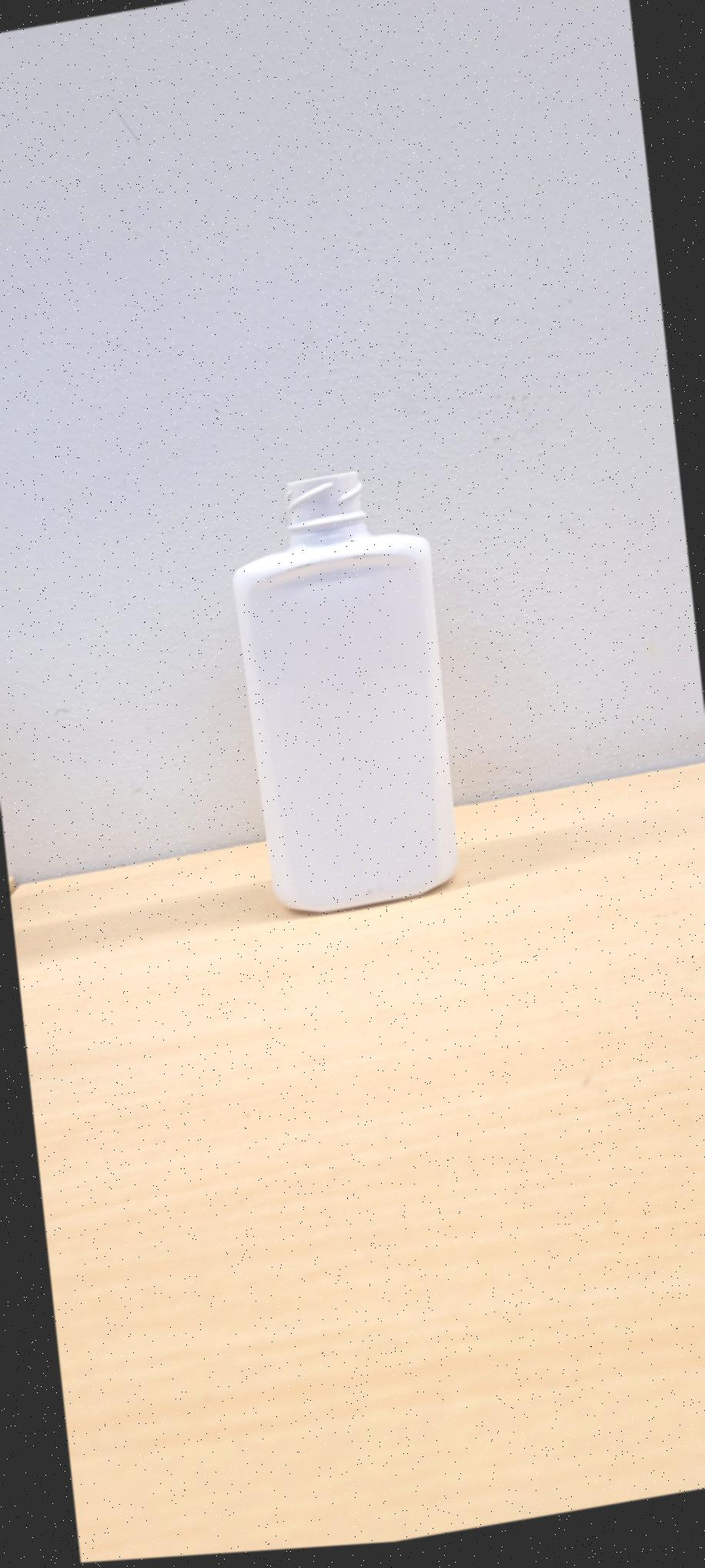bottle: (233, 472, 457, 913)
